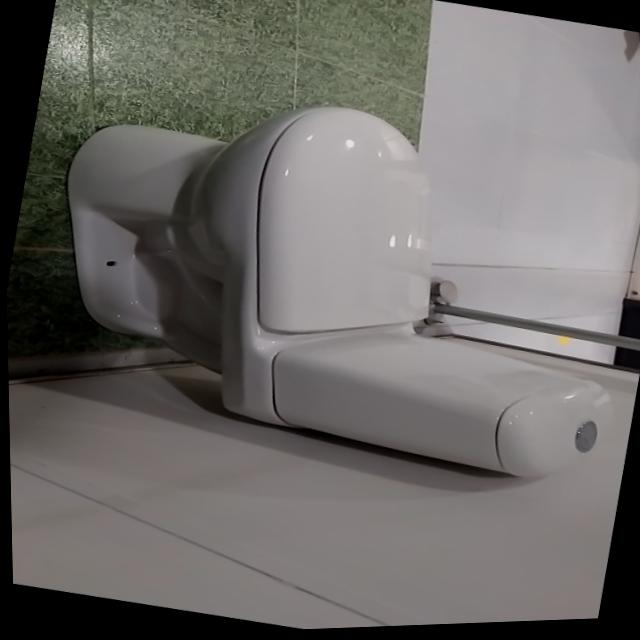toilet: (19, 50, 640, 511)
